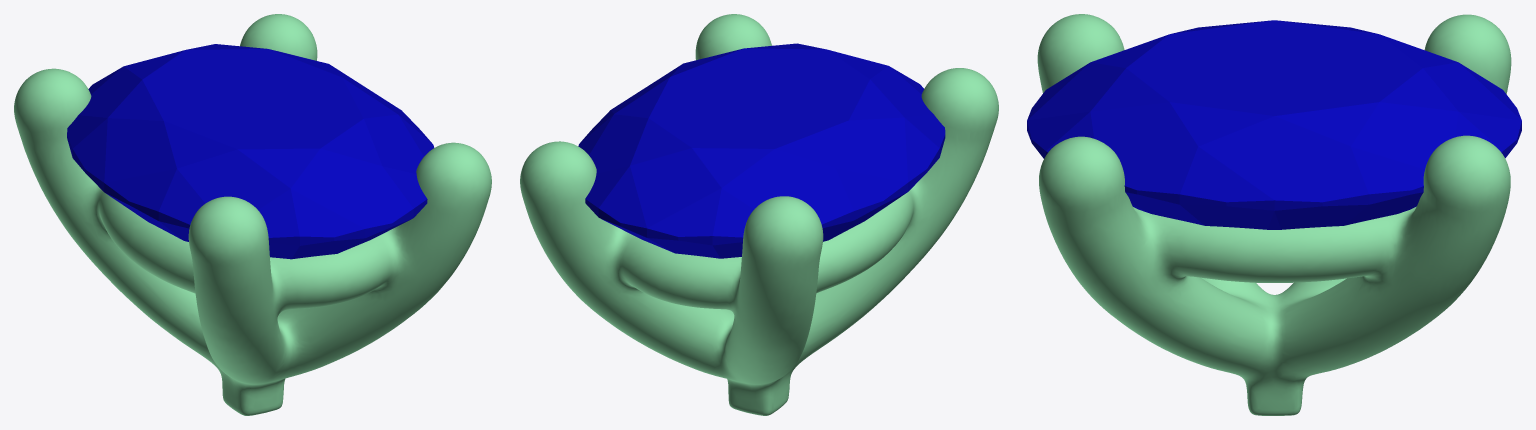
File: Oval.3dm.glb
3 views of the same model, side by side, from view 1: azimuth 30°, elevation 25°; view 2: azimuth 150°, elevation 25°; view 3: azimuth 270°, elevation 25° (orthographic). The views are drawn at different scales.
Visible parts, largest first — view 1: /Oval.3dm, Diamond_Oval; view 2: /Oval.3dm, Diamond_Oval; view 3: /Oval.3dm, Diamond_Oval.
Part boxes in pixels (x1=…): /Oval.3dm: x1=14, y1=14, x2=491, y2=415; Diamond_Oval: x1=67, y1=44, x2=434, y2=259; /Oval.3dm: x1=520, y1=14, x2=998, y2=415; Diamond_Oval: x1=578, y1=43, x2=945, y2=258; /Oval.3dm: x1=1037, y1=14, x2=1511, y2=415; Diamond_Oval: x1=1027, y1=20, x2=1521, y2=229.
Bounding box in the file's own units: 7.02 × 6.94 × 9.18.
